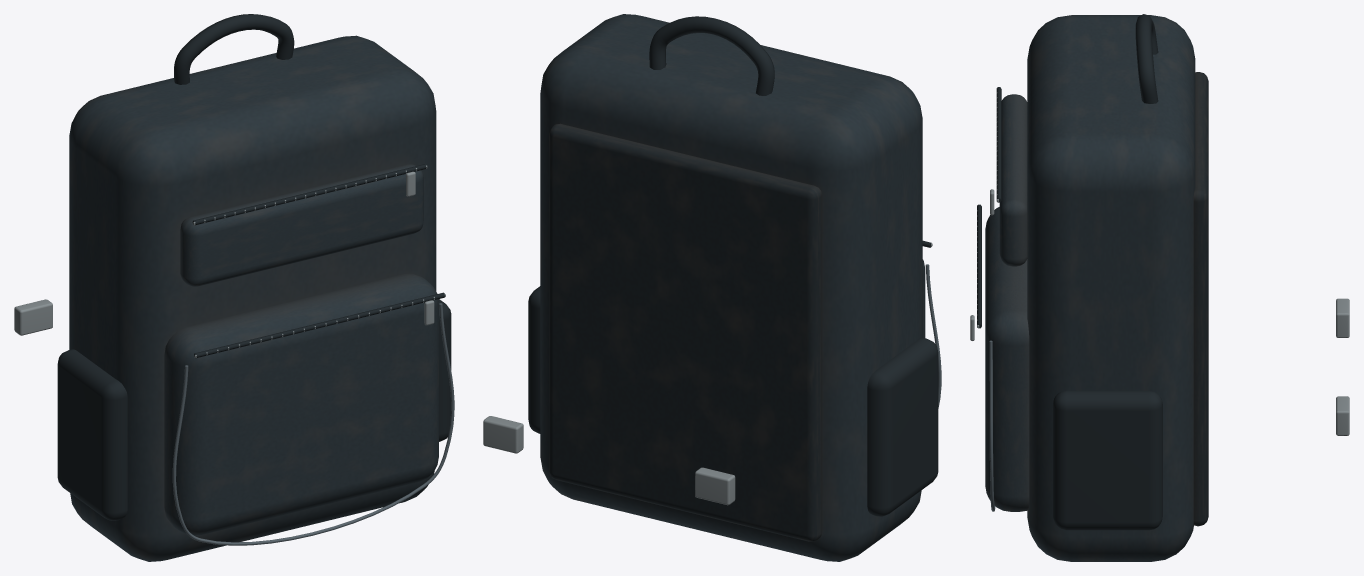
The model's file is gracz_plecak.glb.
3 renders of one model, left to right at view 1: azimuth 30°, elevation 25°; view 2: azimuth 150°, elevation 25°; view 3: azimuth 270°, elevation 25°, orthographic. The views are drawn at different scales.
Visible parts, largest first — view 1: Plecak, Gorna_kieszen, Regulator_L; view 2: Plecak, Regulator_P, Regulator_L; view 3: Plecak, Gorna_kieszen, Regulator_L, Regulator_P.
Part boxes in pixels (left/top/right/bottom): Plecak: left=57, top=14, right=454, bottom=561; Gorna_kieszen: left=180, top=164, right=423, bottom=286; Regulator_L: left=14, top=299, right=52, bottom=335; Plecak: left=528, top=14, right=941, bottom=561; Regulator_P: left=483, top=416, right=523, bottom=453; Regulator_L: left=695, top=467, right=735, bottom=505; Plecak: left=970, top=14, right=1208, bottom=561; Gorna_kieszen: left=999, top=94, right=1027, bottom=266; Regulator_L: left=1336, top=298, right=1349, bottom=337; Regulator_P: left=1336, top=396, right=1349, bottom=435.
Size of the model in its own units: 0.343 by 0.4568 by 0.328.
Materials: 7 (4 with a texture image).
